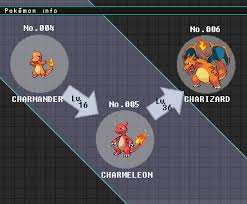charizard: (183, 39, 230, 91)
